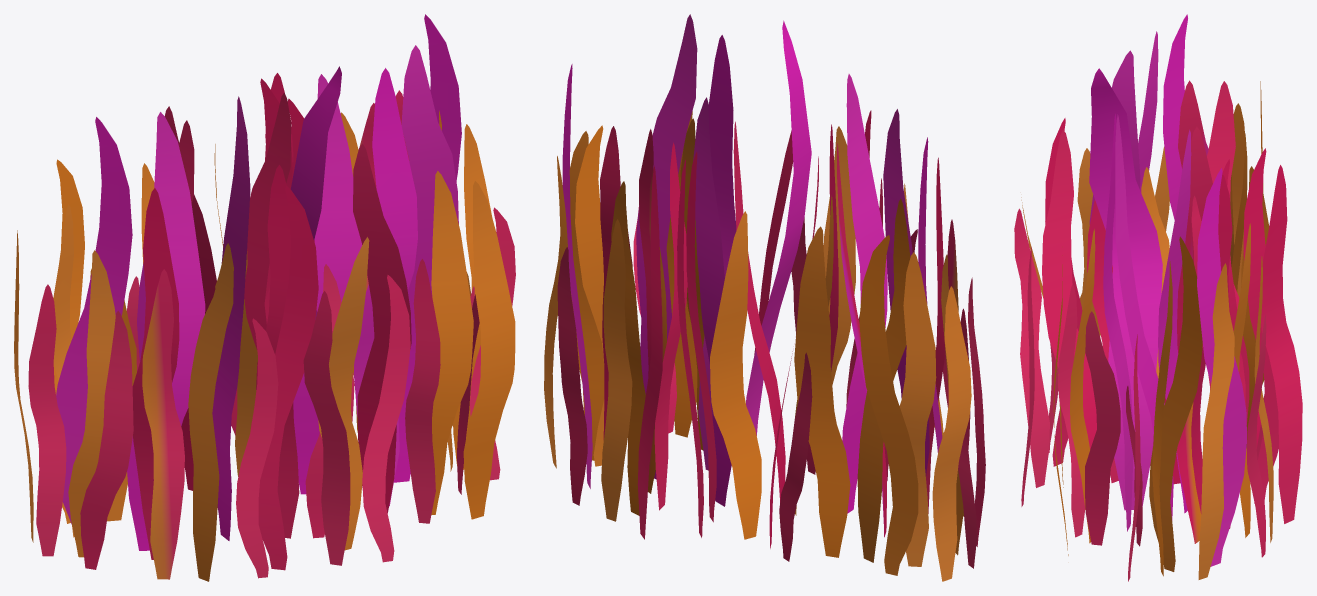
File: plantB.fbx
3 renders of one model, left to right at view 1: azimuth 30°, elevation 25°; view 2: azimuth 150°, elevation 25°; view 3: azimuth 270°, elevation 25°, orthographic. The views are drawn at different scales.
Parts seen in each view (by area): view 1: plantB; view 2: plantB; view 3: plantB.
Boxes of the visible parts, <box> form: plantB: <box>14,14,515,581</box>; plantB: <box>544,14,985,581</box>; plantB: <box>1014,14,1302,581</box>.
Bounding box in the file's own units: 103 × 102 × 60.71.
